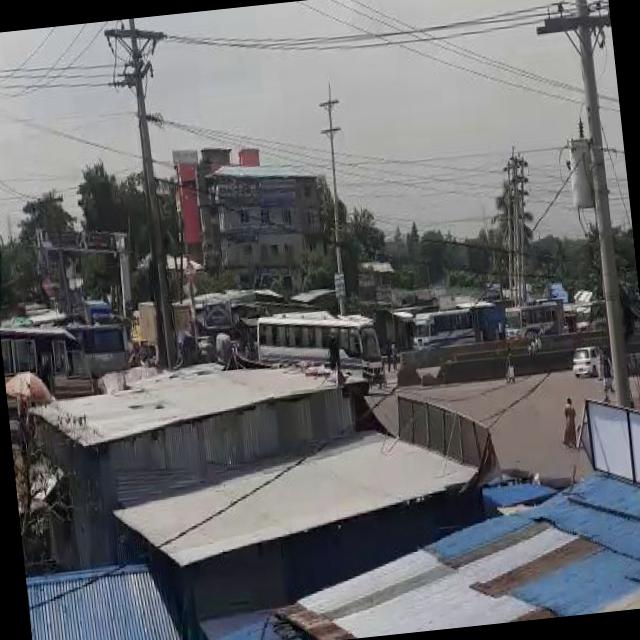bus: (248, 300, 382, 384), (74, 316, 136, 376), (414, 304, 476, 350), (505, 294, 564, 338)
car: (571, 340, 606, 375)
truck: (128, 298, 194, 358)
